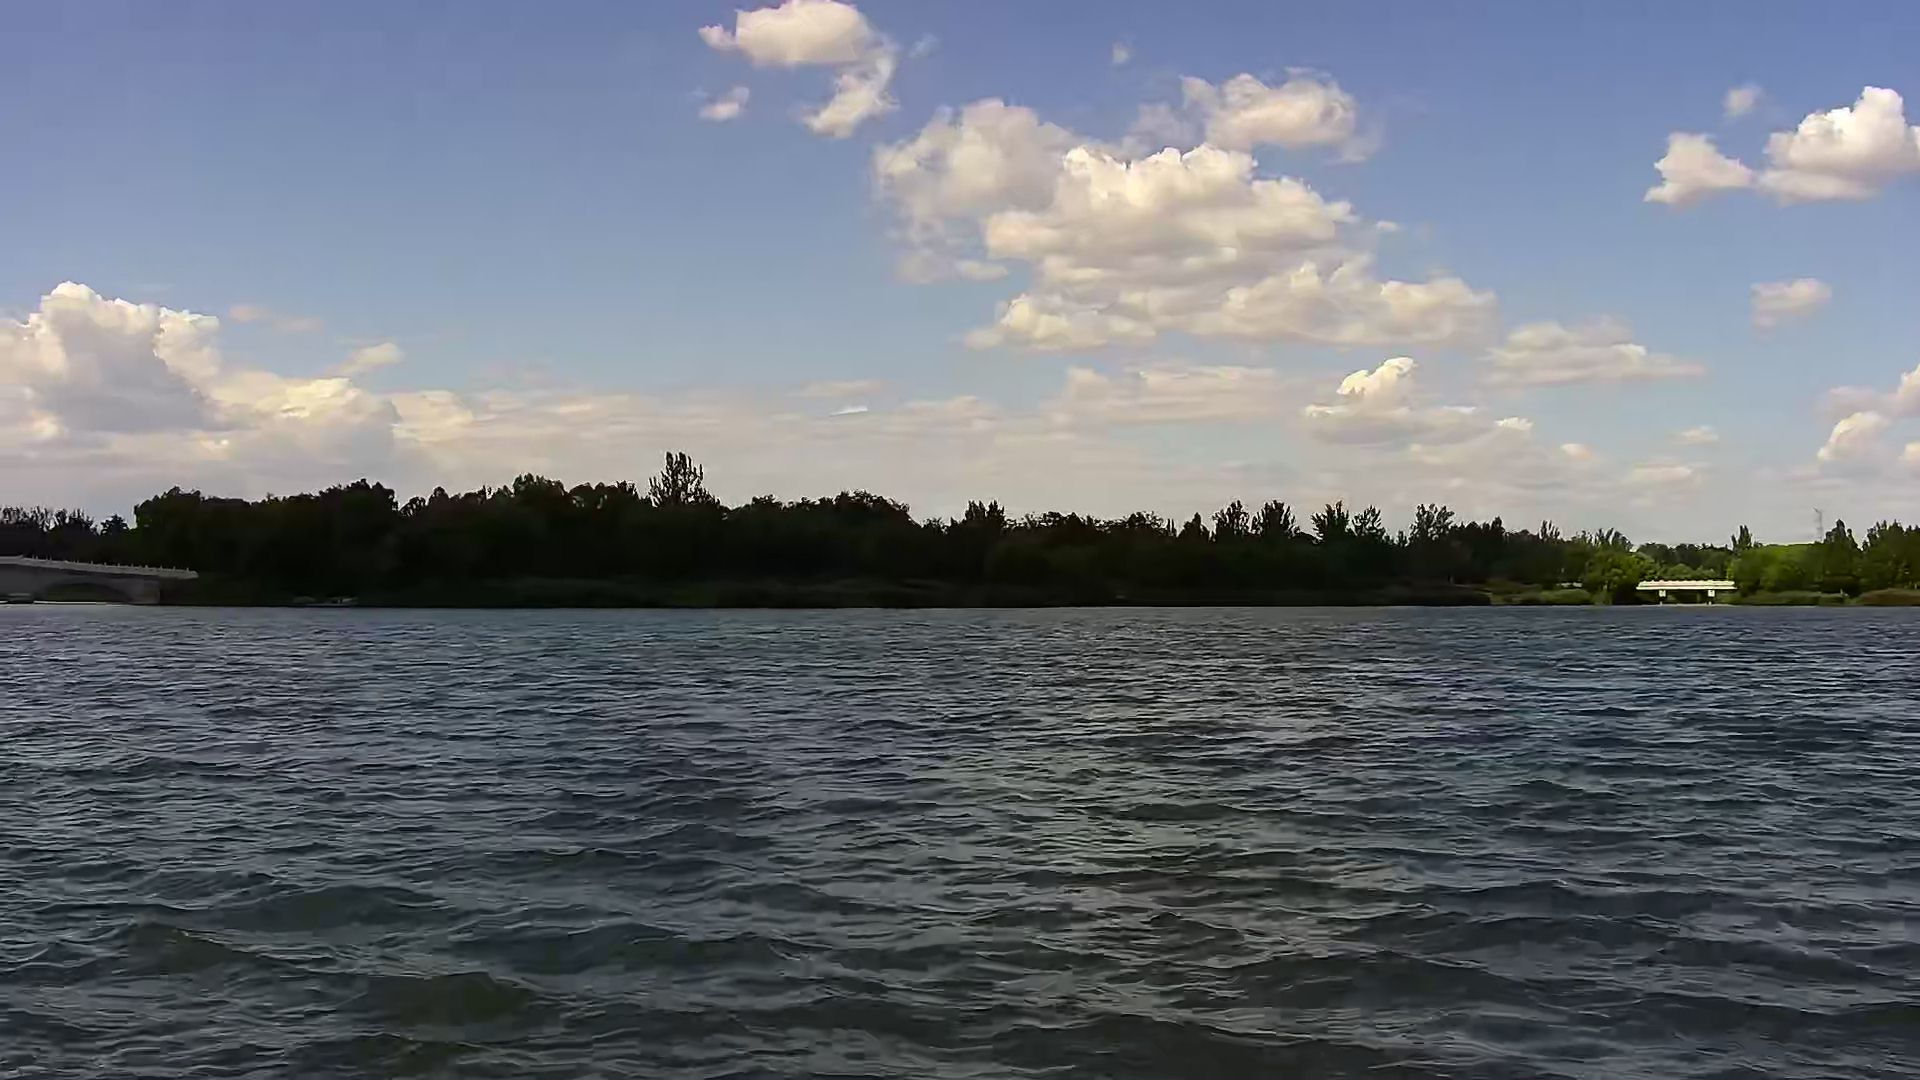bridge: (1, 554, 196, 611), (1633, 582, 1743, 607)
